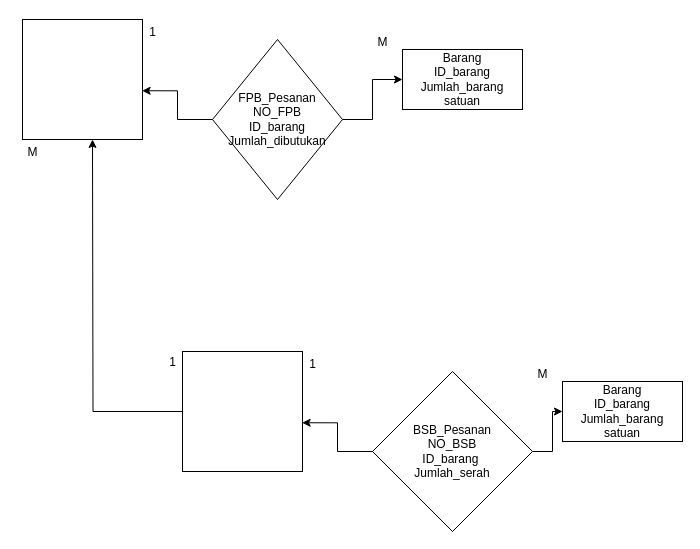
Image size: 700x549. Some labels were removed from this diagram. The box of each missing label's shape, as (x1, y1, x2, y2) in pixels:
BSB No_BSB Tgl_BSB Kebutuhan No_FPB: (182, 350, 302, 472)
FPB No_FPB Tgl_FPB Kebutuhan: (22, 18, 142, 140)
